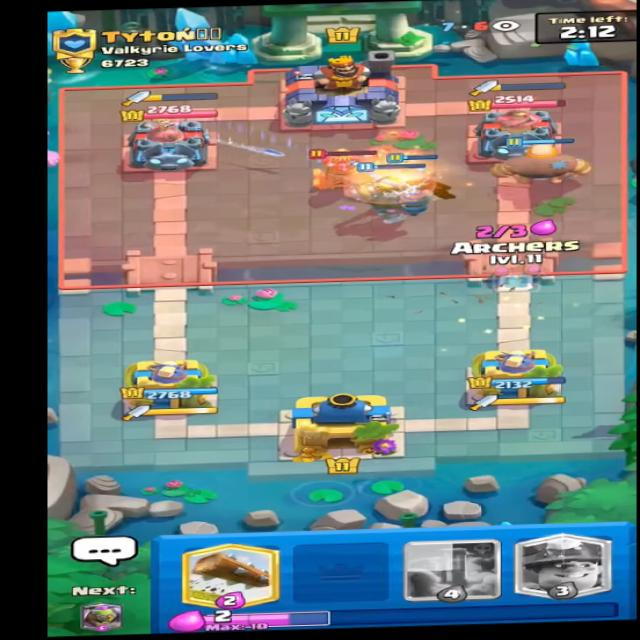Tesla: (303, 144, 384, 194)
